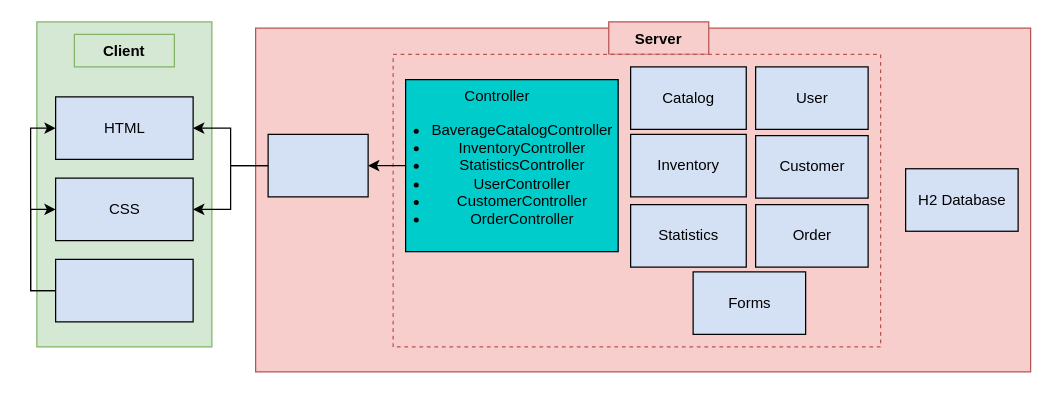
The diagram is 1053 pixels wide and 394 high, and some of its shapes have lost their labels. The shapes that lost their labels are listed below. From the top down, each one's centre as x and y in pixels, then its label:
At point 317,165: "Thymeleaf".
At point 123,290: "JavaScript".
